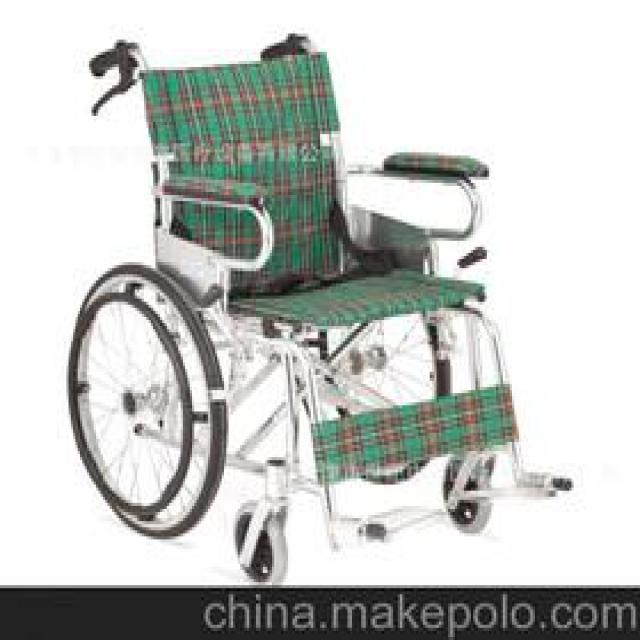wheelchair: (59, 24, 583, 586)
